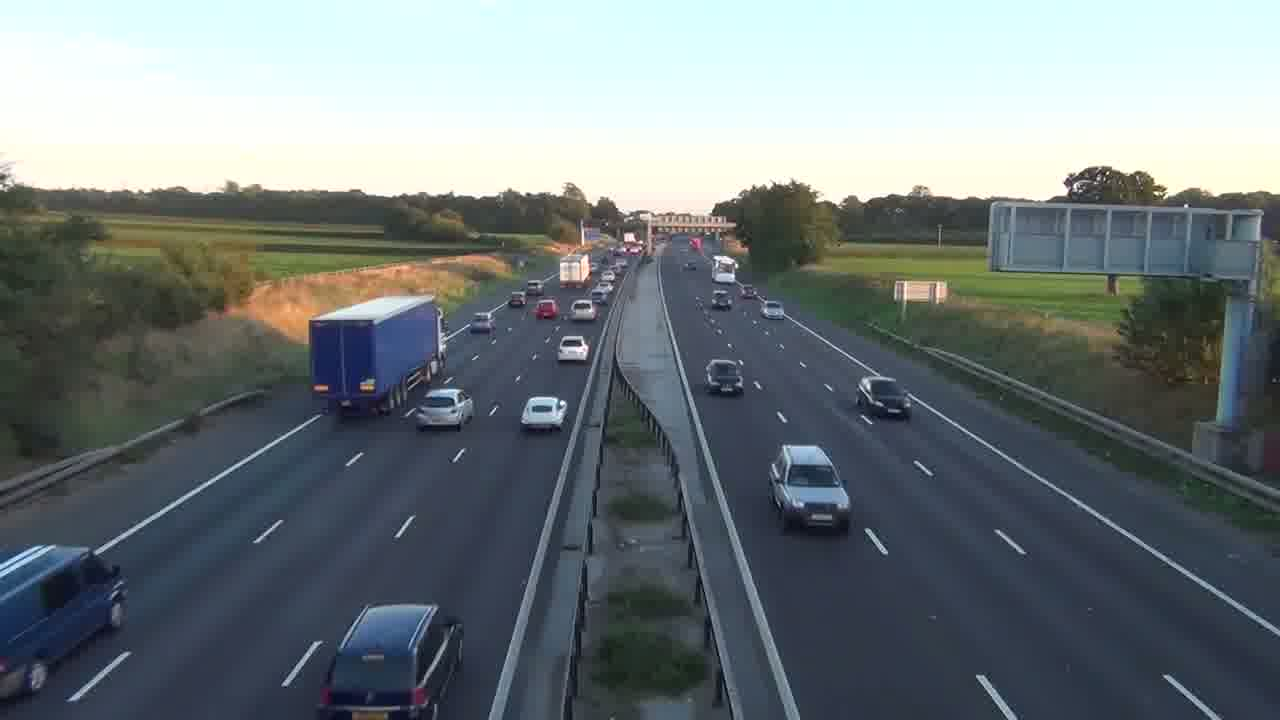car: (316, 602, 465, 717), (768, 443, 852, 533), (413, 386, 474, 432), (855, 375, 913, 420), (520, 395, 567, 434), (703, 358, 745, 396), (557, 335, 590, 362), (571, 299, 597, 321), (761, 300, 785, 319)
truck: (0, 543, 129, 700), (307, 293, 442, 417), (712, 256, 738, 283)
